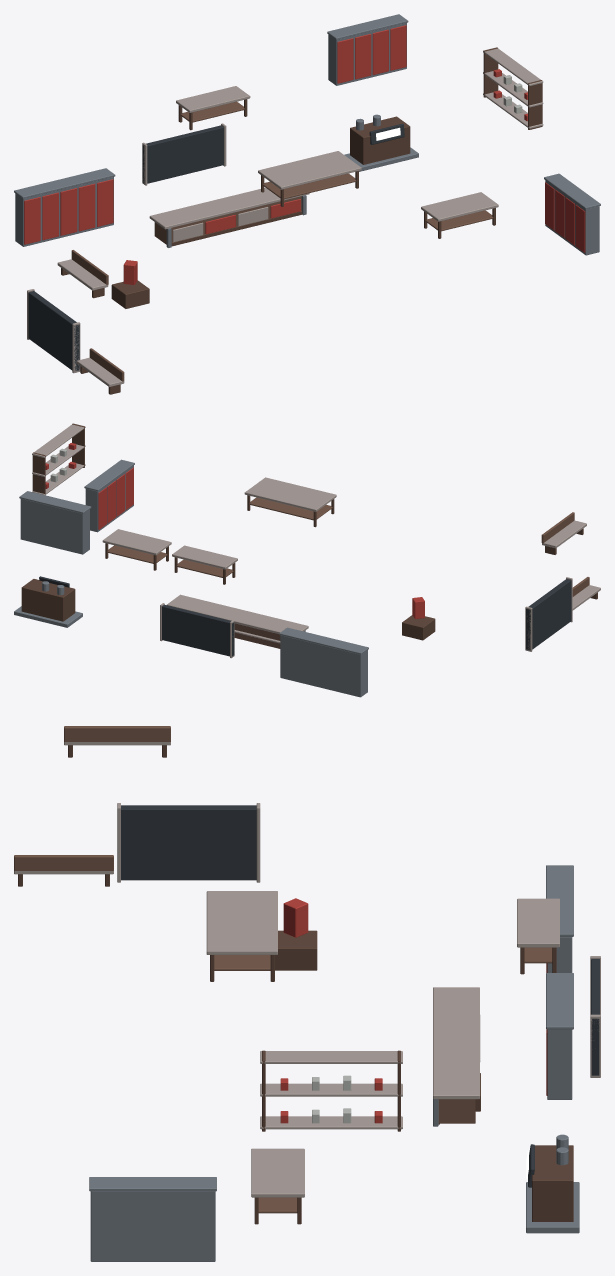
Rendered from redoubt_contract_yard.lod1.glb.
The picture shows the model from 3 angles, top to bottom: view 1: azimuth 30°, elevation 25°; view 2: azimuth 150°, elevation 25°; view 3: azimuth 270°, elevation 25°; orthographic projection. The views are drawn at different scales.
Size of the model in its own units: 25.66 by 6.36 by 16.45.
